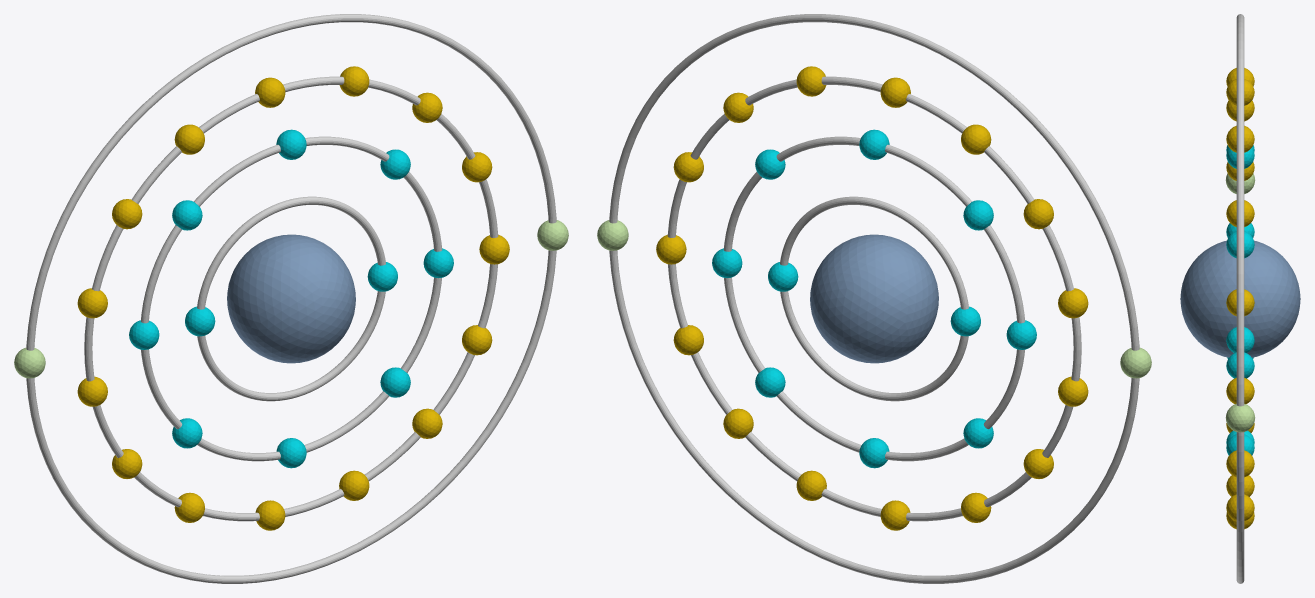
The picture shows the model from 3 angles, left to right: view 1: azimuth 30°, elevation 25°; view 2: azimuth 150°, elevation 25°; view 3: azimuth 270°, elevation 25°; orthographic projection. The views are drawn at different scales.
Parts seen in each view (by area): view 1: Camada_4, Nucleo_Co, Camada_3, Camada_2, Camada_1, e4_2, e4_1, e2_4, e2_8, e3_7, e3_6, e3_14 (+20 smaller); view 2: Camada_4, Nucleo_Co, Camada_3, Camada_2, Camada_1, e4_2, e4_1, e2_4, e2_8, e3_7, e3_6, e3_14 (+20 smaller); view 3: Nucleo_Co, Camada_4, e4_1, e3_5, e3_14, e3_15, e2_2, e3_2, e3_4, e1_1, e3_3, e2_1 (+10 smaller).
Boxes of the visible parts, x1,y1,x2,y2 form: Camada_4: [26, 14, 556, 583]; Nucleo_Co: [227, 234, 355, 363]; Camada_3: [84, 76, 498, 521]; Camada_2: [140, 136, 442, 461]; Camada_1: [197, 196, 385, 401]; e4_2: [14, 347, 45, 378]; e4_1: [537, 220, 568, 250]; e2_4: [172, 200, 202, 230]; e2_8: [380, 367, 410, 397]; e3_7: [112, 199, 142, 229]; e3_6: [174, 124, 204, 154]; e3_14: [412, 408, 442, 438]; Camada_4: [609, 14, 1139, 583]; Nucleo_Co: [810, 234, 938, 363]; Camada_3: [667, 76, 1081, 521]; Camada_2: [723, 136, 1025, 461]; Camada_1: [780, 196, 968, 401]; e4_2: [1120, 347, 1151, 378]; e4_1: [597, 220, 628, 250]; e2_4: [963, 200, 993, 230]; e2_8: [755, 367, 785, 397]; e3_7: [1023, 199, 1053, 229]; e3_6: [961, 124, 991, 154]; e3_14: [723, 408, 753, 438]; Nucleo_Co: [1180, 240, 1300, 357]; Camada_4: [1236, 14, 1244, 583]; e4_1: [1225, 404, 1255, 432]; e3_5: [1226, 79, 1254, 105]; e3_14: [1226, 494, 1254, 521]; e3_15: [1226, 450, 1254, 477]; e2_2: [1226, 231, 1254, 258]; e3_2: [1226, 289, 1254, 316]; e3_4: [1226, 125, 1254, 152]; e1_1: [1226, 327, 1254, 352]; e3_3: [1226, 200, 1254, 226]; e2_1: [1226, 352, 1254, 378].
Bounding box in the file's own units: 2.17 × 2.09 × 0.44.
